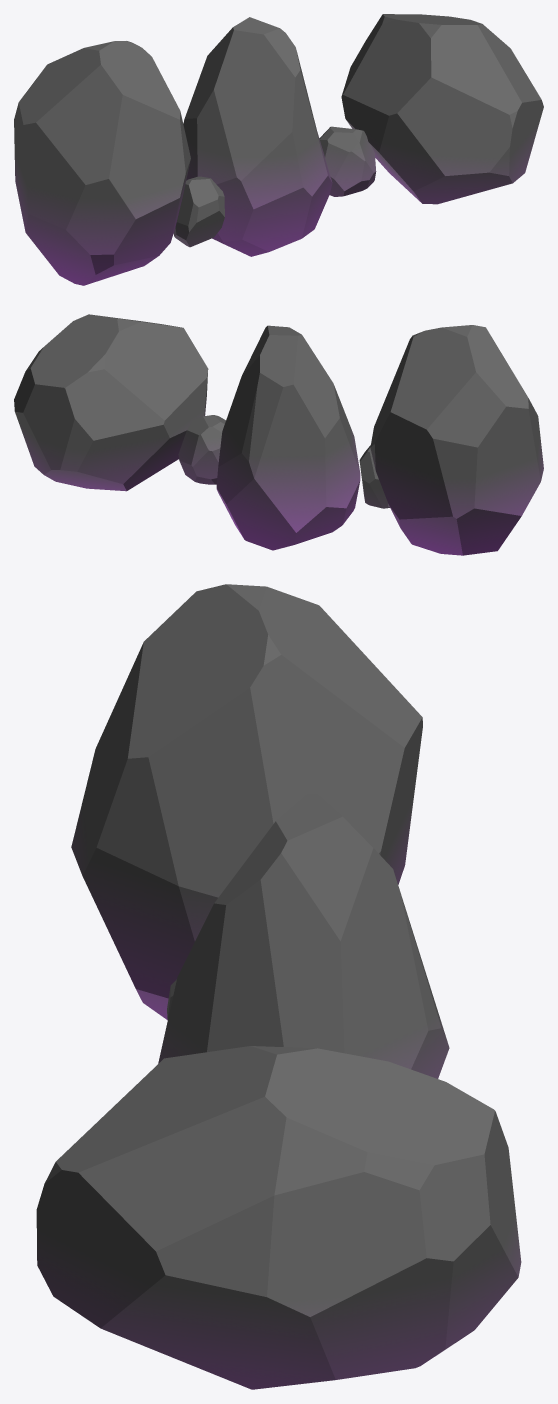
The model's file is rock1test.fbx.
The picture shows the model from 3 angles, top to bottom: view 1: azimuth 30°, elevation 25°; view 2: azimuth 150°, elevation 25°; view 3: azimuth 270°, elevation 25°; orthographic projection. The views are drawn at different scales.
Visible parts, largest first — view 1: Sphere.028, Sphere.030, Sphere.029, Sphere.031, Sphere.032; view 2: Sphere.028, Sphere.030, Sphere.029, Sphere.031, Sphere.032; view 3: Sphere.030, Sphere.028, Sphere.029.
Boxes of the visible parts, x1=… form: Sphere.028: x1=14, y1=41, x2=190, y2=285; Sphere.030: x1=341, y1=14, x2=543, y2=204; Sphere.029: x1=183, y1=17, x2=332, y2=256; Sphere.031: x1=319, y1=126, x2=376, y2=196; Sphere.032: x1=173, y1=176, x2=224, y2=247; Sphere.028: x1=370, y1=325, x2=543, y2=555; Sphere.030: x1=14, y1=314, x2=208, y2=491; Sphere.029: x1=216, y1=325, x2=360, y2=550; Sphere.031: x1=178, y1=415, x2=225, y2=484; Sphere.032: x1=359, y1=445, x2=389, y2=508; Sphere.030: x1=36, y1=1046, x2=521, y2=1389; Sphere.028: x1=71, y1=584, x2=422, y2=1020; Sphere.029: x1=158, y1=794, x2=449, y2=1078.
Bounding box in the file's own units: 366 × 173 × 156.
